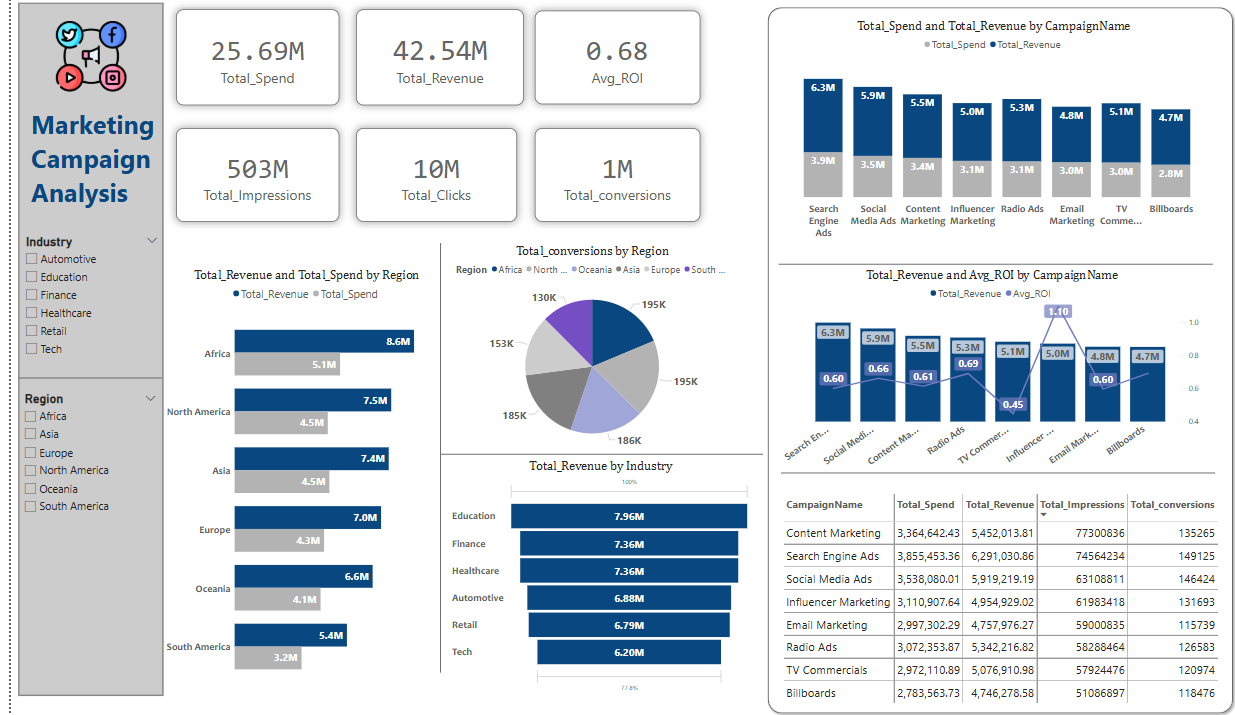

Layout of this report page (visuals, bound fields, positions):
{"tool":"powerbi","page":{"name":"overview","canvas":[2580,1600],"ordinal":0},"visuals":[{"type":"card","fields":{"Values":["marketing campaign performance.Total_Clicks"]},"box":[726.8,273.2,339,197.6],"z":0},{"type":"card","fields":{"Values":["marketing campaign performance.Total_conversions"]},"box":[1102.4,273.2,348.8,197.6],"z":1000},{"type":"card","fields":{"Values":["marketing campaign performance.Total_Impressions"]},"box":[346.3,273.2,343.9,197.6],"z":2000},{"type":"card","fields":{"Values":["marketing campaign performance.Total_Revenue"]},"box":[726.8,24.4,353.7,202.4],"z":3000},{"type":"card","fields":{"Values":["marketing campaign performance.Total_Spend"]},"box":[346.3,24.4,343.9,202.4],"z":4000},{"type":"card","fields":{"Values":["marketing campaign performance.Avg_ROI"]},"box":[1102.4,26.8,348.8,197.6],"z":5000},{"type":"card","fields":{"Values":["marketing campaign performance.Count_of_Campaigns"]},"box":[17.1,495.1,280.5,280.5],"z":6000},{"type":"shape","box":[1582.9,9.8,997.6,1504.9],"z":7000},{"type":"lineClusteredColumnComboChart","fields":{"Y":["marketing campaign performance.Total_Revenue"],"Category":["marketing campaign performance.CampaignName"],"Y2":["marketing campaign performance.Avg_ROI"]},"box":[1617.1,565.9,897.6,434.1],"z":8000},{"type":"columnChart","fields":{"Category":["marketing campaign performance.CampaignName"],"Y":["marketing campaign performance.Total_Spend","marketing campaign performance.Total_Revenue"]},"box":[1604.9,41.5,926.8,473.2],"z":9000},{"type":"tableEx","fields":{"Values":["marketing campaign performance.CampaignName","marketing campaign performance.Total_Spend","marketing campaign performance.Total_Revenue","marketing campaign performance.Total_Impressions","marketing campaign performance.Total_conversions"]},"box":[1622,1039,958.5,495.1],"z":10000},{"type":"donutChart","fields":{"Y":["marketing campaign performance.Total_Impressions"],"Category":["marketing campaign performance.CampaignName"]},"box":[1065.9,709.8,426.8,361],"z":11000},{"type":"funnel","fields":{"Category":["marketing campaign performance.Industry"],"Y":["marketing campaign performance.Total_Revenue"]},"box":[924.4,968.3,636.6,500],"z":12000},{"type":"pieChart","fields":{"Category":["marketing campaign performance.Region"],"Y":["marketing campaign performance.Total_conversions"]},"box":[924.4,514.6,600,453.7],"z":13000},{"type":"clusteredBarChart","fields":{"Category":["marketing campaign performance.Region"],"Y":["marketing campaign performance.Total_Revenue","marketing campaign performance.Total_Spend"]},"box":[322,565.9,602.4,904.9],"z":14000},{"type":"shape","box":[17.1,9.8,304.9,1458.5],"z":15000},{"type":"image","box":[90.2,41.5,158.5,161],"z":16000},{"type":"textbox","box":[36.6,224.4,309.8,395.1],"z":17000},{"type":"shape","box":[758.5,514.6,292.7,904.9],"z":18000},{"type":"shape","box":[904.9,809.8,678,300],"z":19000},{"type":"shape","box":[1617.1,409.8,914.6,300],"z":20000},{"type":"shape","box":[1622,851.2,914.6,300],"z":21000},{"type":"slicer","fields":{"Values":["marketing campaign performance.Industry"]},"box":[18.2,490.9,303,318.2],"z":22000},{"type":"slicer","fields":{"Values":["marketing campaign performance.Region"]},"box":[17.1,824.4,302.4,273.2],"z":22001},{"type":"shape","box":[17.1,651.2,302.4,300],"z":22002}]}

Visuals, with their boxes on the page's 2580x1600 design canvas (x1, y1, x2, y2). These are canvas units, not pixel positions in the 1235x715 screenshot, which may show the page scaled, cropped or inside an application window:
card - marketing campaign performance.Total_Clicks: bbox(727, 273, 1066, 471)
card - marketing campaign performance.Total_conversions: bbox(1102, 273, 1451, 471)
card - marketing campaign performance.Total_Impressions: bbox(346, 273, 690, 471)
card - marketing campaign performance.Total_Revenue: bbox(727, 24, 1080, 227)
card - marketing campaign performance.Total_Spend: bbox(346, 24, 690, 227)
card - marketing campaign performance.Avg_ROI: bbox(1102, 27, 1451, 224)
card - marketing campaign performance.Count_of_Campaigns: bbox(17, 495, 298, 776)
shape: bbox(1583, 10, 2580, 1515)
lineClusteredColumnComboChart - marketing campaign performance.Total_Revenue x marketing campaign performance.CampaignName: bbox(1617, 566, 2515, 1000)
columnChart - marketing campaign performance.CampaignName x marketing campaign performance.Total_Spend: bbox(1605, 42, 2532, 515)
tableEx - marketing campaign performance.CampaignName x marketing campaign performance.Total_Spend: bbox(1622, 1039, 2580, 1534)
donutChart - marketing campaign performance.Total_Impressions x marketing campaign performance.CampaignName: bbox(1066, 710, 1493, 1071)
funnel - marketing campaign performance.Industry x marketing campaign performance.Total_Revenue: bbox(924, 968, 1561, 1468)
pieChart - marketing campaign performance.Region x marketing campaign performance.Total_conversions: bbox(924, 515, 1524, 968)
clusteredBarChart - marketing campaign performance.Region x marketing campaign performance.Total_Revenue: bbox(322, 566, 924, 1471)
shape: bbox(17, 10, 322, 1468)
image: bbox(90, 42, 249, 202)
textbox: bbox(37, 224, 346, 620)
shape: bbox(758, 515, 1051, 1420)
shape: bbox(905, 810, 1583, 1110)
shape: bbox(1617, 410, 2532, 710)
shape: bbox(1622, 851, 2537, 1151)
slicer - marketing campaign performance.Industry: bbox(18, 491, 321, 809)
slicer - marketing campaign performance.Region: bbox(17, 824, 320, 1098)
shape: bbox(17, 651, 320, 951)
